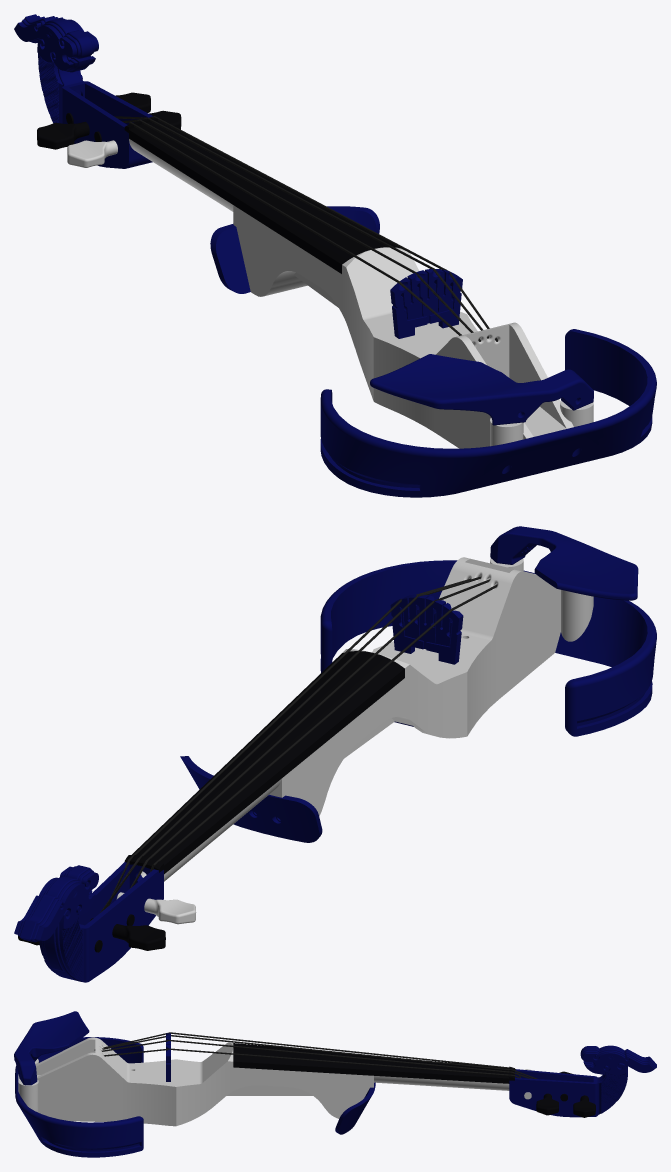
Rendered from wolcloud_violin_prop_v2.obj.
3 renders of one model, top to bottom at view 1: azimuth 30°, elevation 25°; view 2: azimuth 150°, elevation 25°; view 3: azimuth 270°, elevation 25°, orthographic. The views are drawn at different scales.
Visible parts, largest first — view 1: LowerBout, LowerBody, fingerboard, ChinRest-TradAttach-R4, Pegbox, Neck, bridge, UpperBout, Cylinder.002, Cylinder.001, Cylinder.003, Cylinder (+2 smaller); view 2: LowerBody, LowerBout, fingerboard, Pegbox, ChinRest-TradAttach-R4, Neck, bridge, UpperBout, Cylinder.002, Cylinder.001, Cylinder, Cylinder.003 (+2 smaller); view 3: LowerBody, Neck, Pegbox, fingerboard, LowerBout, ChinRest-TradAttach-R4, Cylinder.001, Cylinder.002, Cylinder.003, Cylinder, UpperBout, PrintedPeg-R3-large (+2 smaller).
Part boxes in pixels (box(x1,y1,x2,y2)): LowerBout: box(320, 329, 656, 497); LowerBody: box(346, 252, 593, 448); fingerboard: box(129, 121, 400, 273); ChinRest-TradAttach-R4: box(370, 354, 593, 425); Pegbox: box(14, 14, 152, 168); Neck: box(129, 139, 407, 322); bridge: box(390, 269, 462, 338); UpperBout: box(210, 206, 379, 293); Cylinder.002: box(114, 116, 488, 338); Cylinder.001: box(122, 119, 481, 341); Cylinder.003: box(143, 116, 498, 341); Cylinder: box(129, 121, 461, 335); LowerBody: box(372, 557, 593, 738); LowerBout: box(320, 560, 656, 736); fingerboard: box(132, 651, 404, 874); Pegbox: box(14, 862, 163, 982); ChinRest-TradAttach-R4: box(490, 526, 638, 600); Neck: box(141, 649, 409, 881); bridge: box(390, 594, 463, 664); UpperBout: box(180, 756, 322, 842); Cylinder.002: box(100, 576, 481, 912); Cylinder.001: box(130, 579, 490, 888); Cylinder: box(150, 584, 497, 871); Cylinder.003: box(106, 578, 470, 907); LowerBody: box(18, 1037, 227, 1126); Neck: box(227, 1042, 509, 1118); Pegbox: box(509, 1045, 656, 1117); fingerboard: box(233, 1043, 509, 1083); LowerBout: box(15, 1037, 143, 1157); ChinRest-TradAttach-R4: box(14, 1011, 89, 1085); Cylinder.001: box(102, 1035, 537, 1078); Cylinder.002: box(101, 1039, 531, 1078); Cylinder.003: box(104, 1048, 519, 1078); Cylinder: box(94, 1032, 520, 1077); UpperBout: box(335, 1082, 375, 1134); PrintedPeg-R3-large: box(573, 1095, 595, 1117).
Size of the model in its own units: 6.06 by 2.4 by 18.45.
